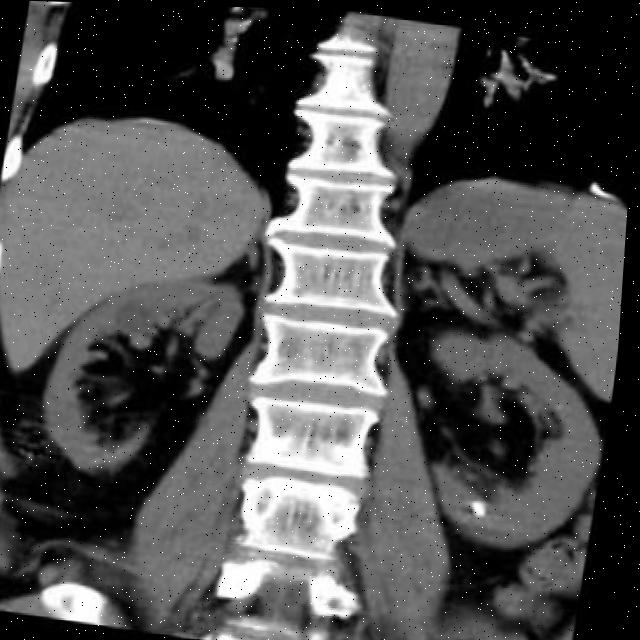Tas_Var: (475, 496, 497, 517)
